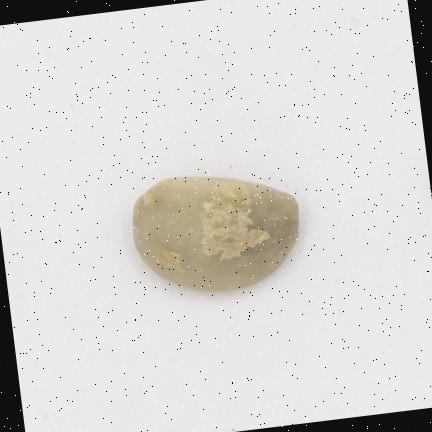shell: (132, 176, 298, 290)
